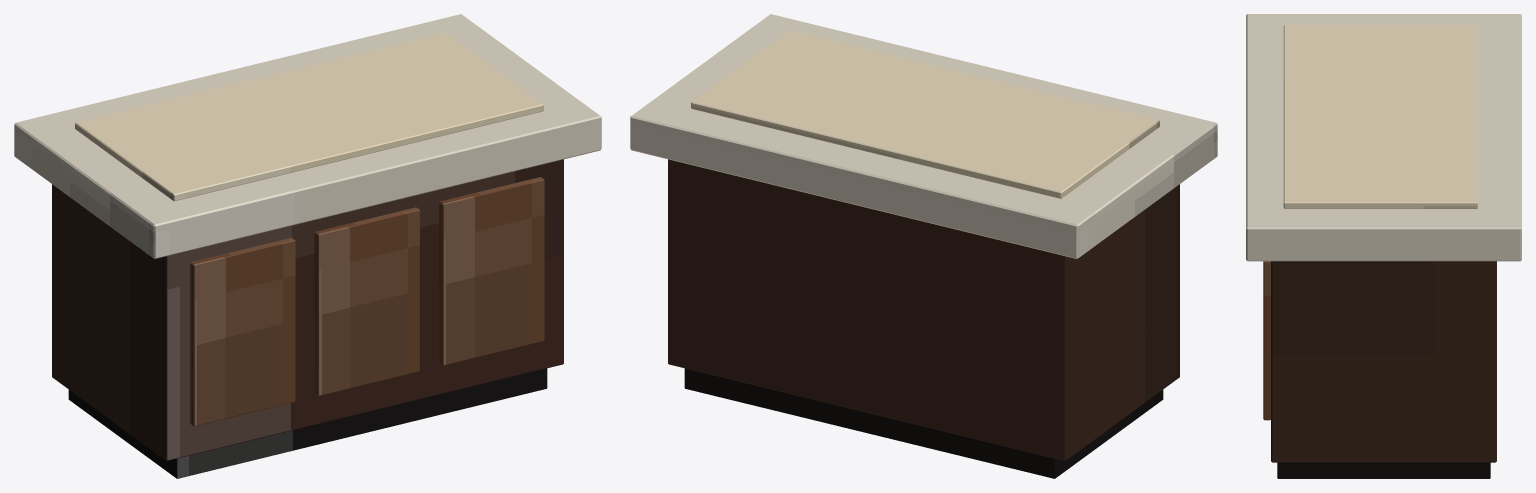
Rendered from luxury_kitchen_island.glb.
3 renders of one model, left to right at view 1: azimuth 30°, elevation 25°; view 2: azimuth 150°, elevation 25°; view 3: azimuth 270°, elevation 25°, orthographic.
Parts seen in each view (by area): view 1: IslandBody, IslandWorktop, MarbleIslandInlay, IslandPanel_-0.45, IslandPanel_0.45, IslandPanel_0.0, IslandPlinth; view 2: IslandBody, IslandWorktop, MarbleIslandInlay, IslandPlinth; view 3: IslandBody, MarbleIslandInlay, IslandWorktop, IslandPlinth, IslandPanel_0.45.
Boxes of the visible parts, bbox=[...] form: IslandBody: bbox=[52, 159, 563, 460]; IslandWorktop: bbox=[14, 14, 601, 258]; MarbleIslandInlay: bbox=[75, 32, 543, 201]; IslandPanel_-0.45: bbox=[190, 237, 295, 426]; IslandPanel_0.45: bbox=[439, 177, 544, 365]; IslandPanel_0.0: bbox=[314, 207, 419, 396]; IslandPlinth: bbox=[68, 368, 547, 478]; IslandBody: bbox=[668, 159, 1179, 460]; IslandWorktop: bbox=[630, 14, 1217, 258]; MarbleIslandInlay: bbox=[691, 30, 1159, 198]; IslandPlinth: bbox=[684, 368, 1163, 478]; IslandBody: bbox=[1271, 261, 1496, 462]; MarbleIslandInlay: bbox=[1283, 25, 1477, 208]; IslandWorktop: bbox=[1246, 14, 1521, 261]; IslandPlinth: bbox=[1277, 462, 1490, 478]; IslandPanel_0.45: bbox=[1263, 261, 1270, 420].
Bounding box in the file's own units: 1.62 × 0.9745 × 0.88.
1 material, 1 textured.
